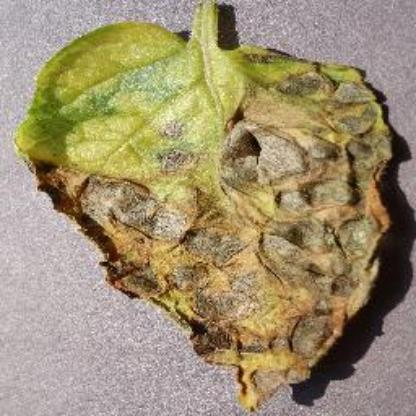Early-Blight: (13, 3, 403, 409)
